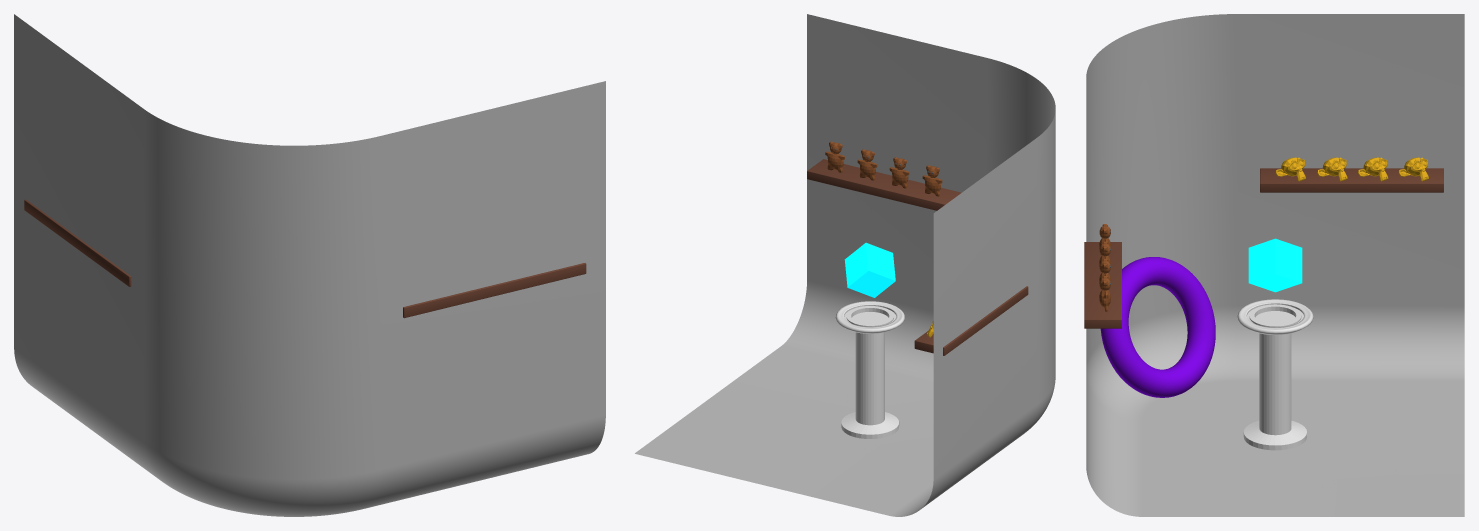
The model's file is musee.glb.
The picture shows the model from 3 angles, left to right: view 1: azimuth 30°, elevation 25°; view 2: azimuth 150°, elevation 25°; view 3: azimuth 270°, elevation 25°; orthographic projection. The views are drawn at different scales.
Visible parts, largest first — view 1: Room, Shelf_Mr_Nounours, Shelf_Suzanne; view 2: Room, Piedestal, Shelf_Mr_Nounours, Tesseract, Shelf_Suzanne; view 3: Room, Torus, Piedestal, Shelf_Suzanne, Shelf_Mr_Nounours, Tesseract, Suzanne2, Suzanne3, Suzanne1, Suzanne4.
Part boxes in pixels (x1,y1,x2,y2): Room: (14,14,605,516); Shelf_Mr_Nounours: (403,263,586,318); Shelf_Suzanne: (24,199,131,286); Room: (635,14,1055,516); Piedestal: (835,301,904,438); Shelf_Mr_Nounours: (807,159,961,210); Tesseract: (844,242,895,297); Shelf_Suzanne: (914,286,1028,355); Room: (1086,14,1464,516); Torus: (1100,257,1215,397); Piedestal: (1237,299,1313,450); Shelf_Suzanne: (1260,168,1443,192); Shelf_Mr_Nounours: (1084,242,1121,328); Tesseract: (1248,238,1302,292); Suzanne2: (1358,157,1388,181); Suzanne3: (1317,157,1347,181); Suzanne1: (1398,157,1428,181); Suzanne4: (1275,157,1305,181).
Bounding box in the file's own units: 20.1 × 20.1 × 20.1.
